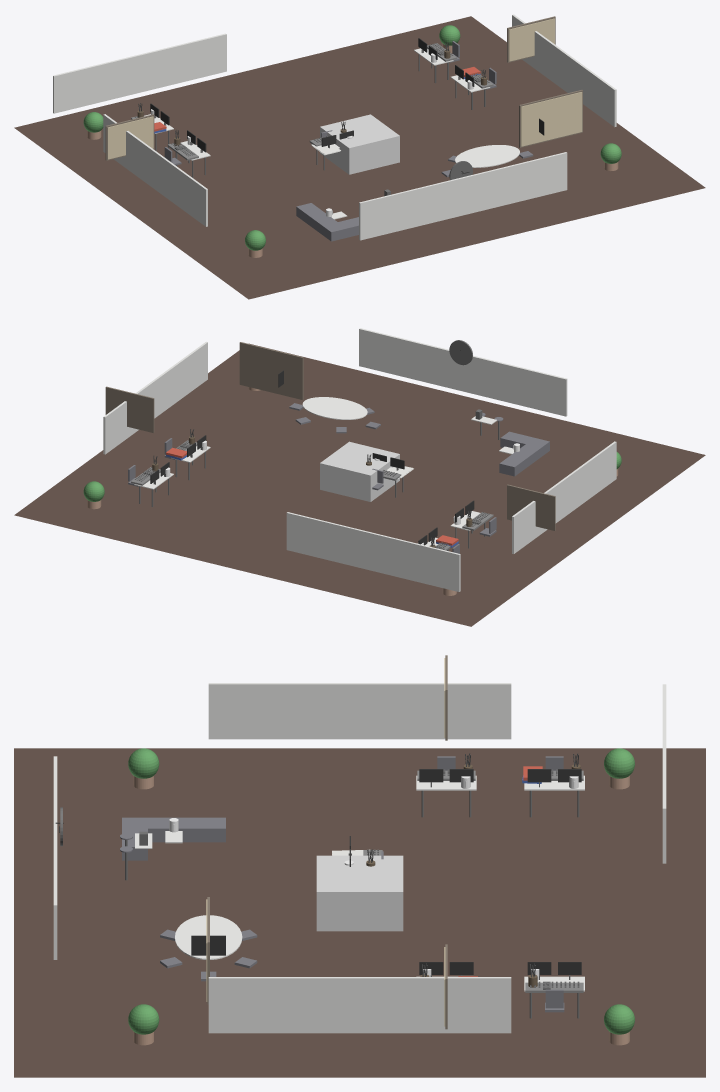
Rendered from office_v29.glb.
The picture shows the model from 3 angles, top to bottom: view 1: azimuth 30°, elevation 25°; view 2: azimuth 150°, elevation 25°; view 3: azimuth 270°, elevation 25°; orthographic projection. The views are drawn at different scales.
Visible parts, largest first — view 1: Floor, Cube.001, Cube.002, Cube.003, Cube.004, Cube, ArtCanvas.001, ArtCanvas.002, ArtCanvas, Cylinder.055, Cube.267, Cube.268; view 2: Floor, Cube.001, Cube.002, Cube.003, Cube.004, Cube, ArtFrame.001, ArtFrame, ArtFrame.002, Cylinder.055, Cube.267, Cube.268 (+1 smaller); view 3: Floor, Cube.004, Cube.003, Cube, Cylinder.055, Cube.267, Cube.001, Cube.002, Cube.268, Plant.001, Plant.002, Plant (+2 smaller).
Part boxes in pixels (<box>): Floor: <box>14,16,705,299</box>; Cube.001: <box>359,152,567,240</box>; Cube.002: <box>53,33,226,113</box>; Cube.003: <box>103,114,207,226</box>; Cube.004: <box>512,14,616,127</box>; Cube: <box>320,114,399,174</box>; ArtCanvas.001: <box>521,92,582,146</box>; ArtCanvas.002: <box>107,116,153,159</box>; ArtCanvas: <box>509,18,554,61</box>; Cylinder.055: <box>455,145,519,167</box>; Cube.267: <box>296,203,337,234</box>; Cube.268: <box>322,217,358,241</box>; Floor: <box>14,343,705,626</box>; Cube.001: <box>359,328,567,416</box>; Cube.002: <box>286,512,460,591</box>; Cube.003: <box>512,441,616,553</box>; Cube.004: <box>103,341,207,454</box>; Cube: <box>320,441,399,501</box>; ArtFrame.001: <box>239,342,303,399</box>; ArtFrame: <box>105,386,154,432</box>; ArtFrame.002: <box>507,484,555,530</box>; Cylinder.055: <box>302,397,367,419</box>; Cube.267: <box>499,444,540,476</box>; Cube.268: <box>500,431,549,456</box>; Floor: <box>14,748,705,1077</box>; Cube.004: <box>208,977,511,1033</box>; Cube.003: <box>208,683,511,739</box>; Cube: <box>316,855,403,931</box>; Cylinder.055: <box>175,915,242,959</box>; Cube.267: <box>148,817,225,842</box>; Cube.001: <box>53,756,57,959</box>; Cube.002: <box>662,684,666,863</box>; Cube.268: <box>122,817,147,860</box>; Plant.001: <box>128,748,159,778</box>; Plant.002: <box>128,1004,159,1034</box>; Plant: <box>604,1004,634,1034</box>.
Bounding box in the file's own units: 18 × 3.65 × 16.
